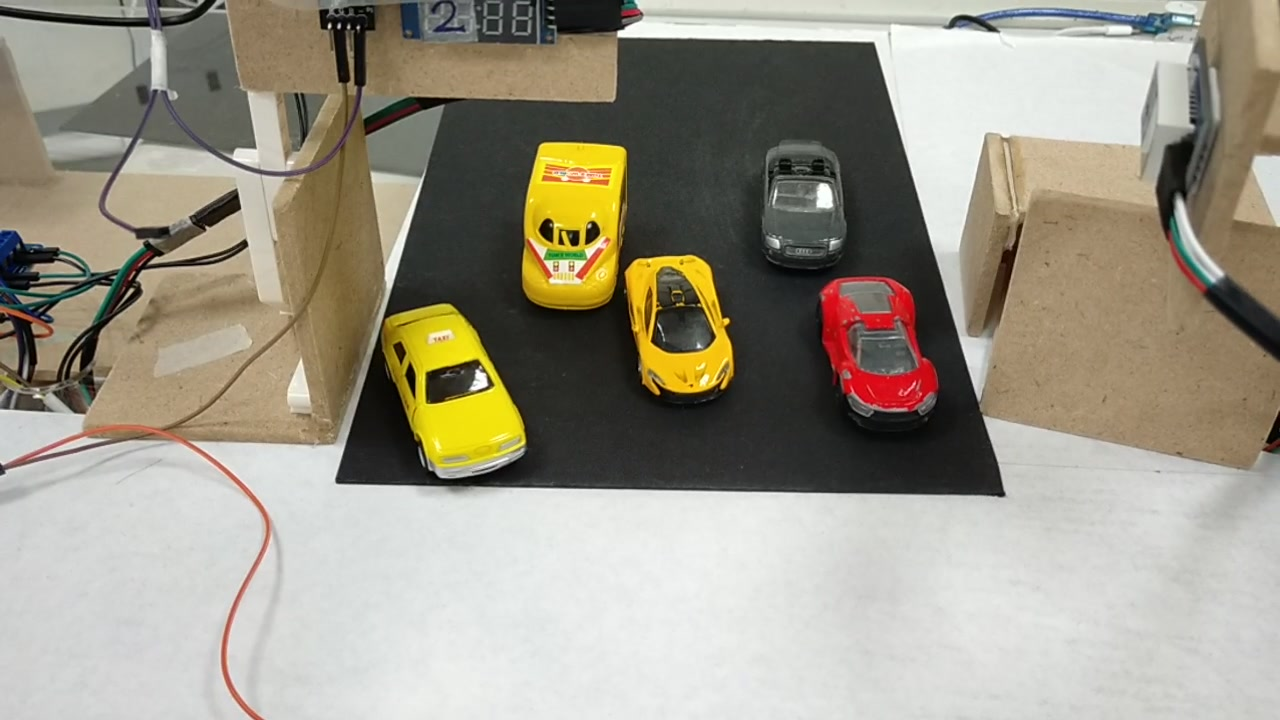car: (376, 313, 522, 481), (823, 272, 937, 428), (620, 255, 730, 402), (752, 143, 847, 269)
